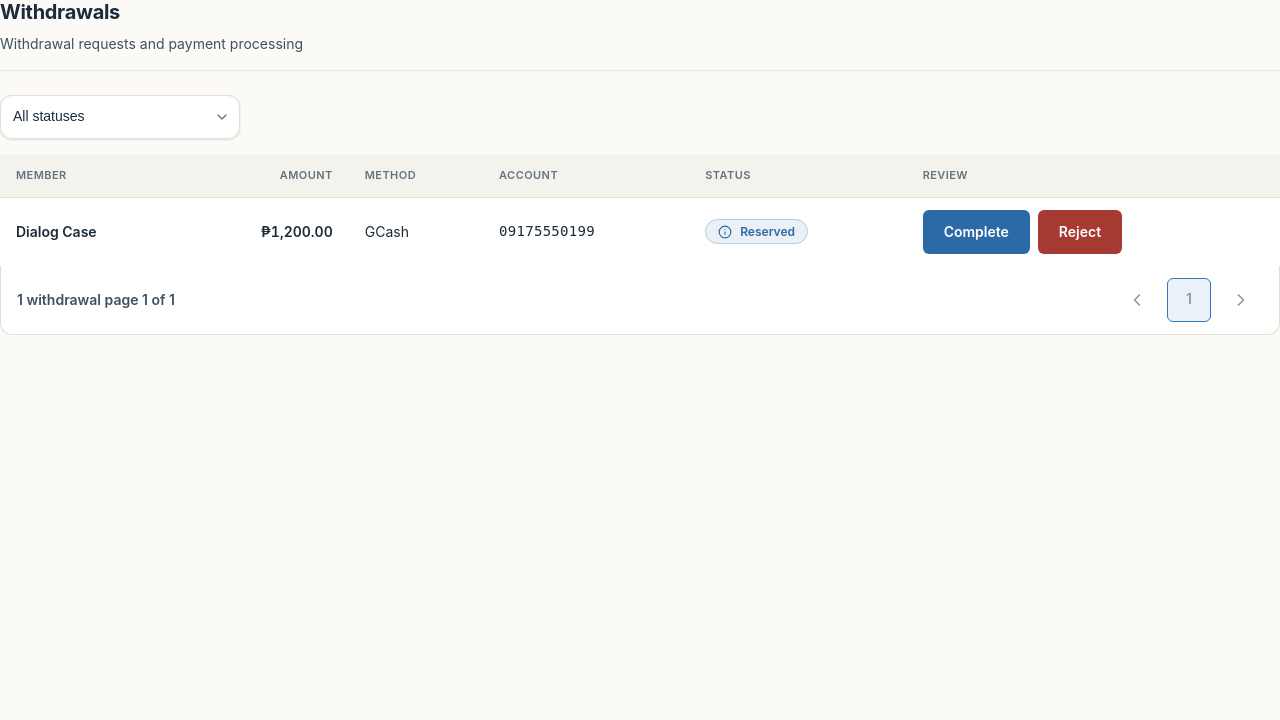
Test: WithdrawalsPage › shows the full number in the table and details dialog
Click the text "09175550199". click: [547, 231]
box: left=499, top=223, right=595, bottom=239
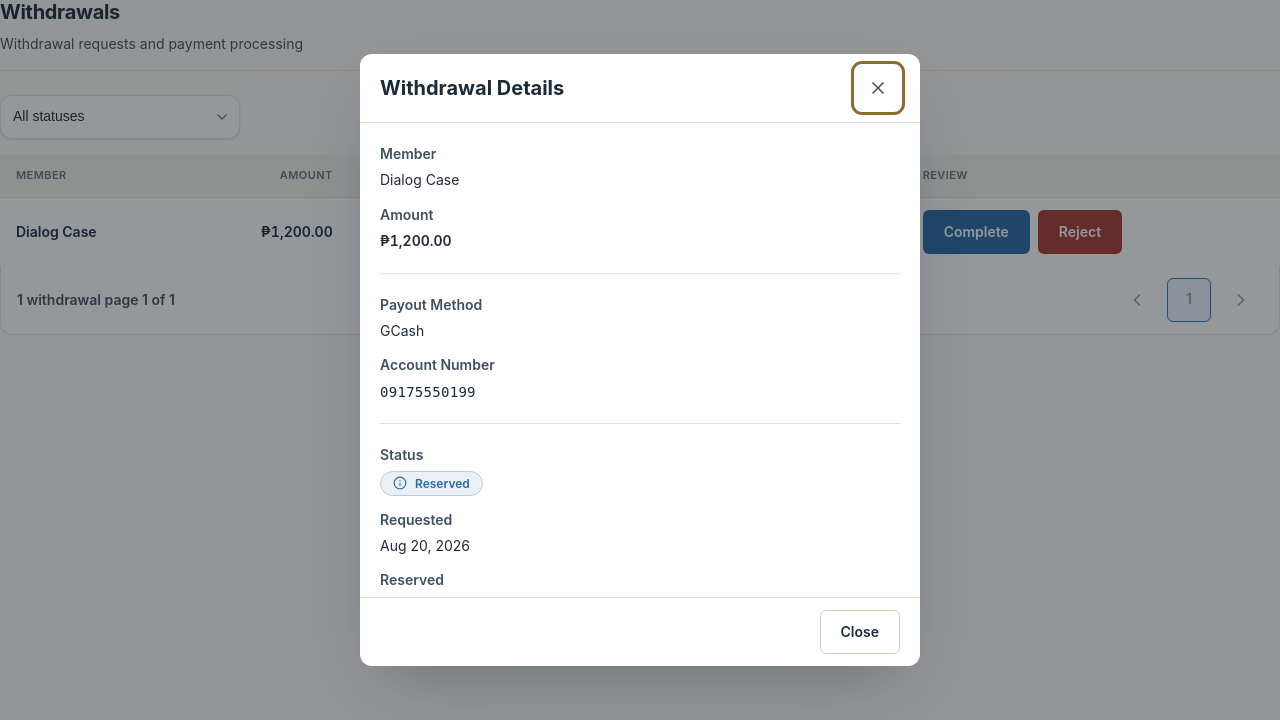
Expected: the heading "Withdrawal Details" is shown, left=380, top=72, right=564, bottom=104
